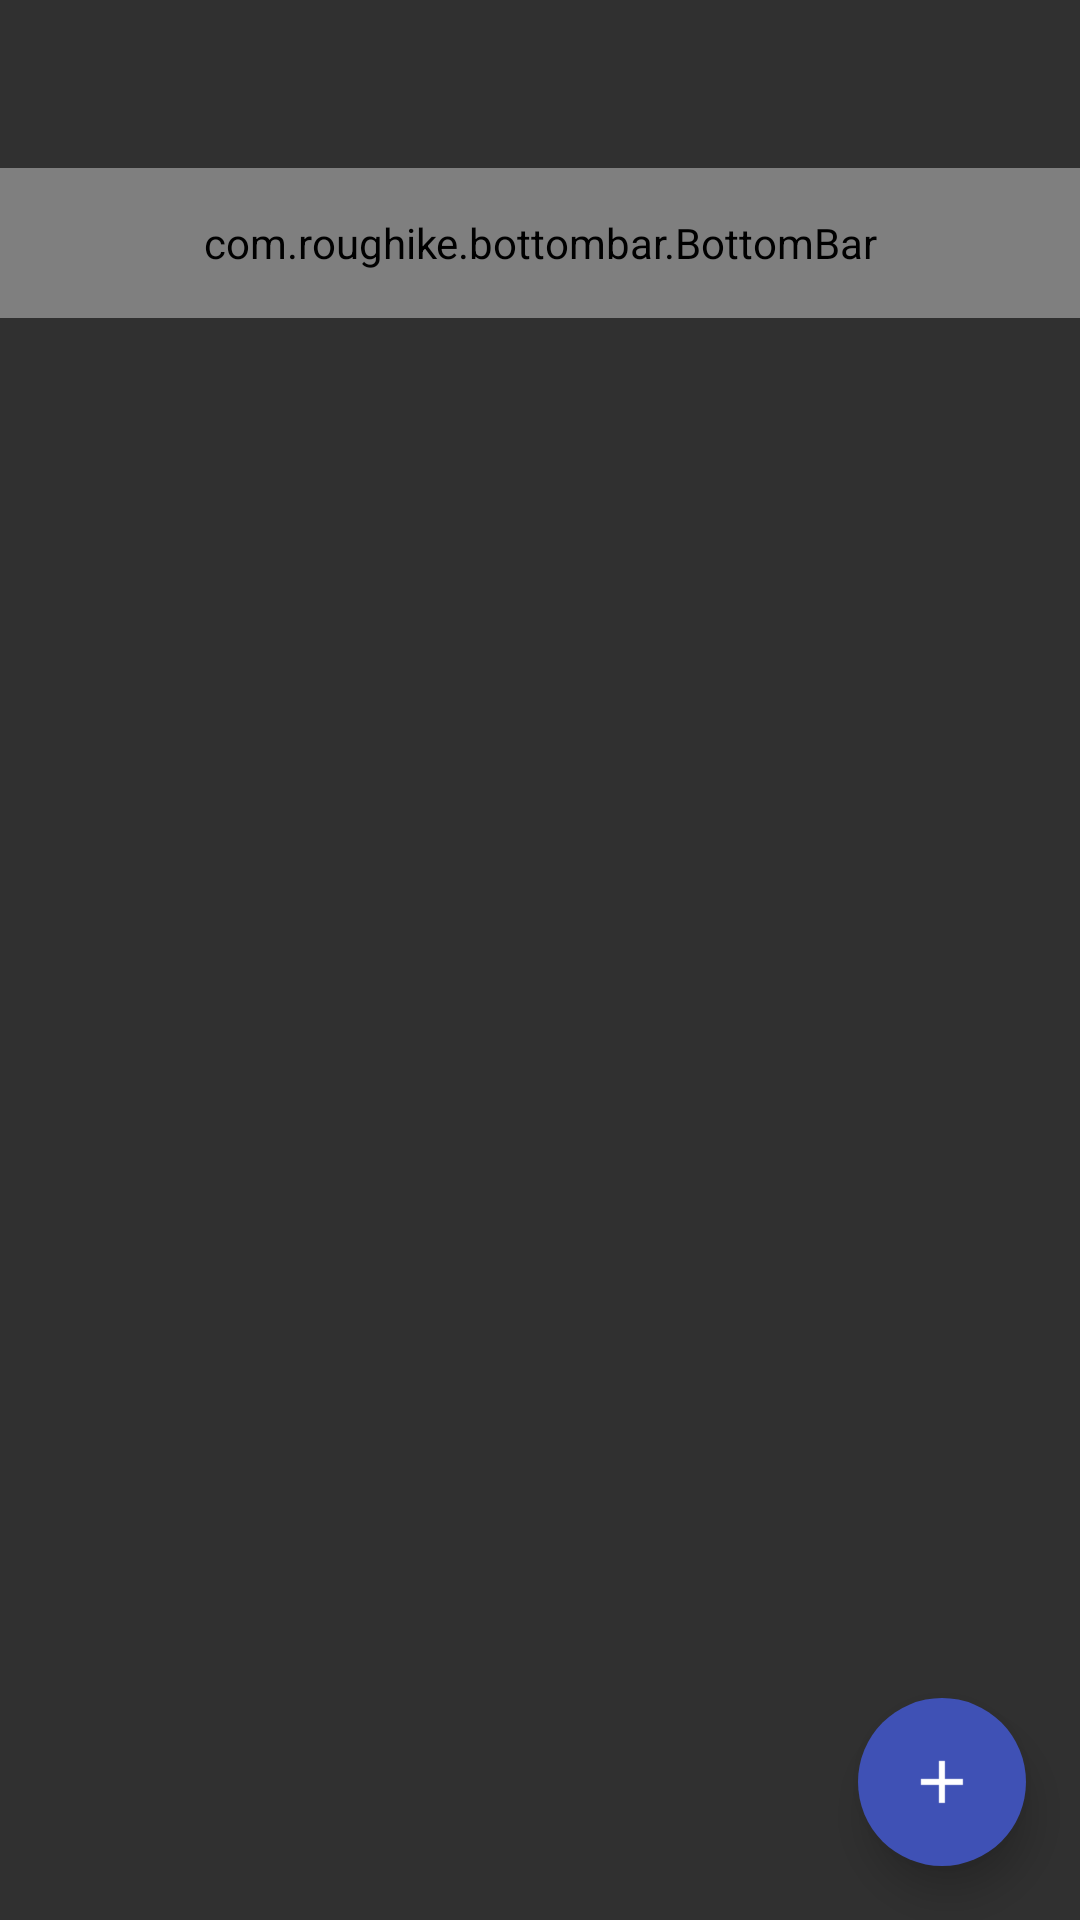

Icons on this 1080×1920 Android screen, each with the point to tap as (x=x, y=y):
create: (x=942, y=1782)
